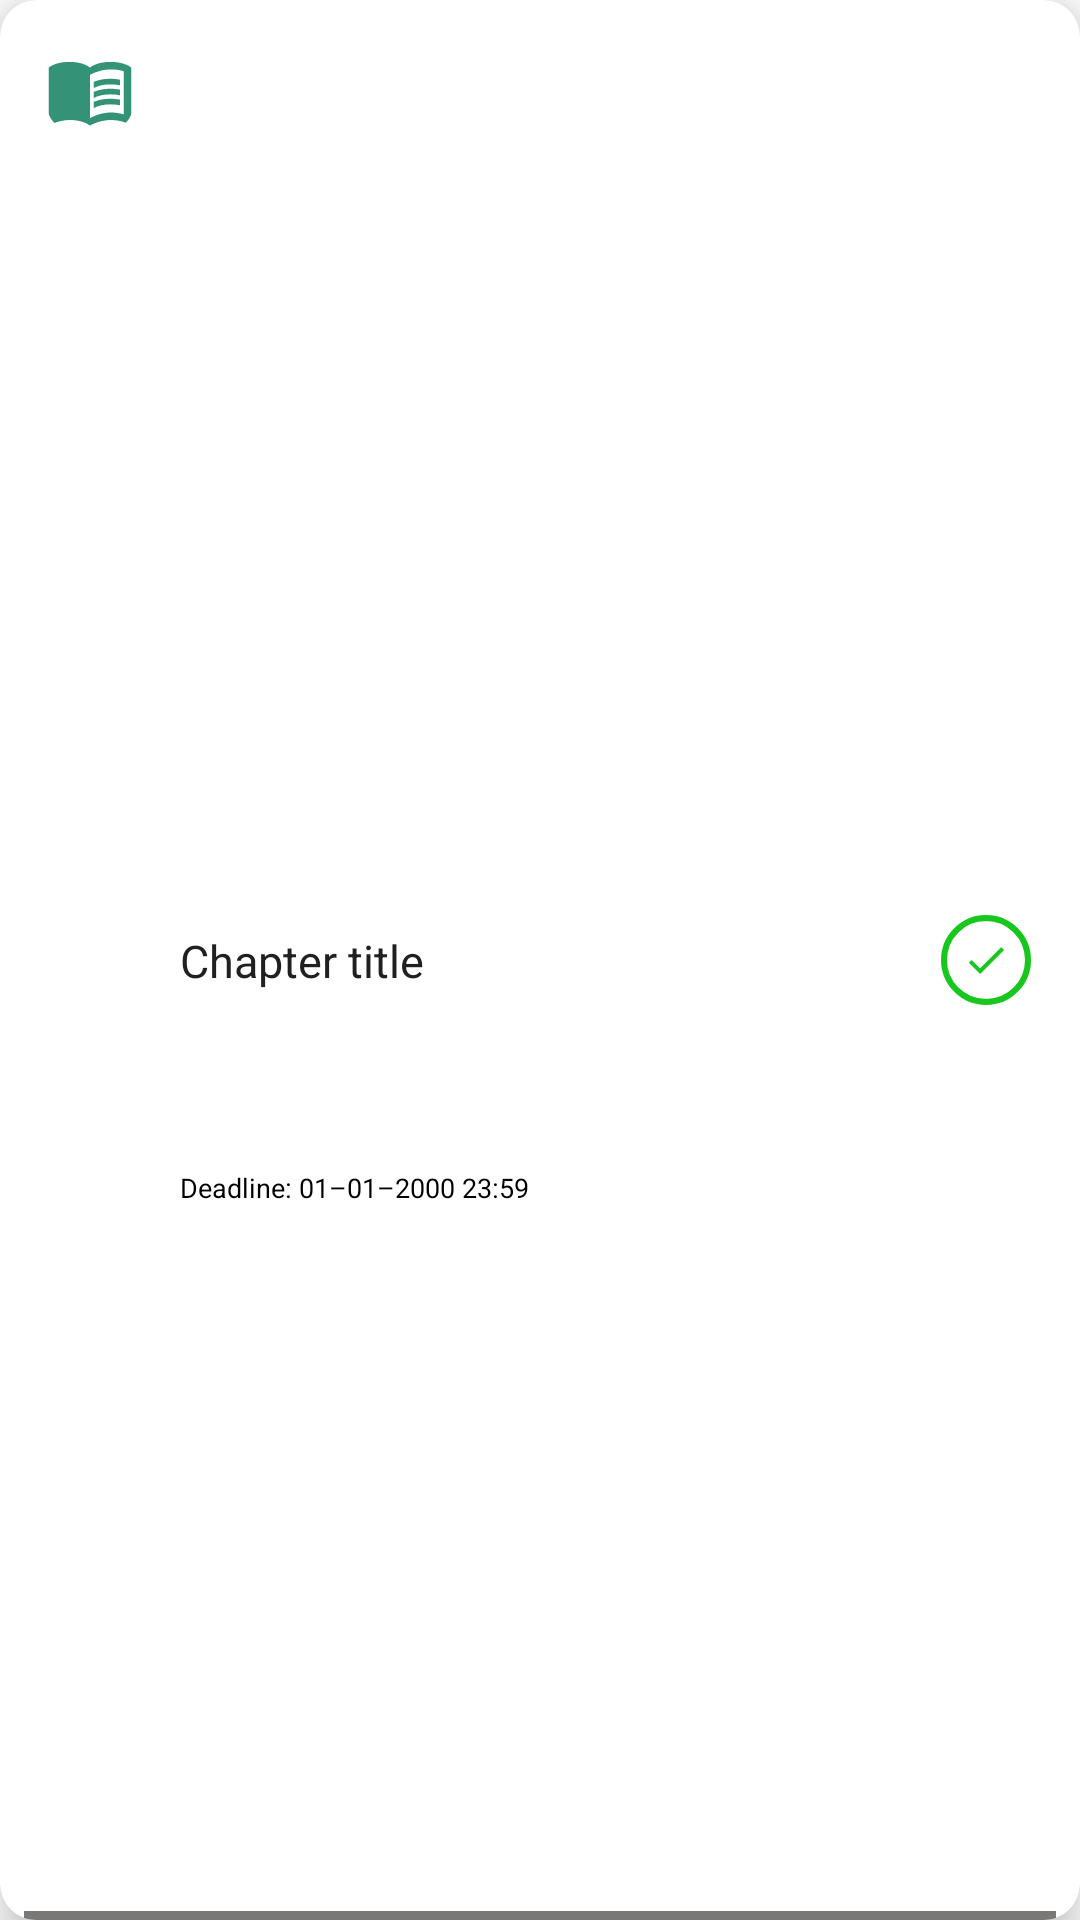

Screen size 1080px×1920px. Icon name, then its box in pixels as (x1, y1, x2, y2):
chapter done: (941, 915, 1031, 1005)
